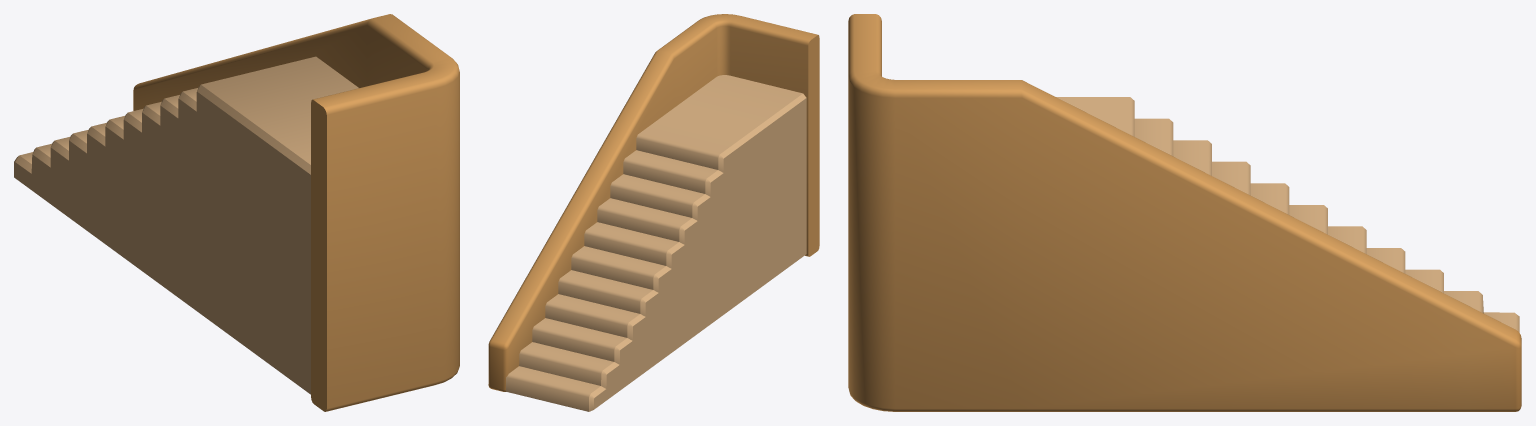
The model's file is Stairs02.fbx.
3 views of the same model, side by side, from view 1: azimuth 30°, elevation 25°; view 2: azimuth 150°, elevation 25°; view 3: azimuth 270°, elevation 25° (orthographic). The views are drawn at different scales.
Visible parts, largest first — view 1: Stairs02; view 2: Stairs02; view 3: Stairs02.
Part boxes in pixels (x1,y1,x2,y2): Stairs02: [14, 14, 459, 411]; Stairs02: [488, 14, 819, 411]; Stairs02: [848, 14, 1521, 411].
Bounding box in the file's own units: 1.78 × 6.51 × 3.44.
